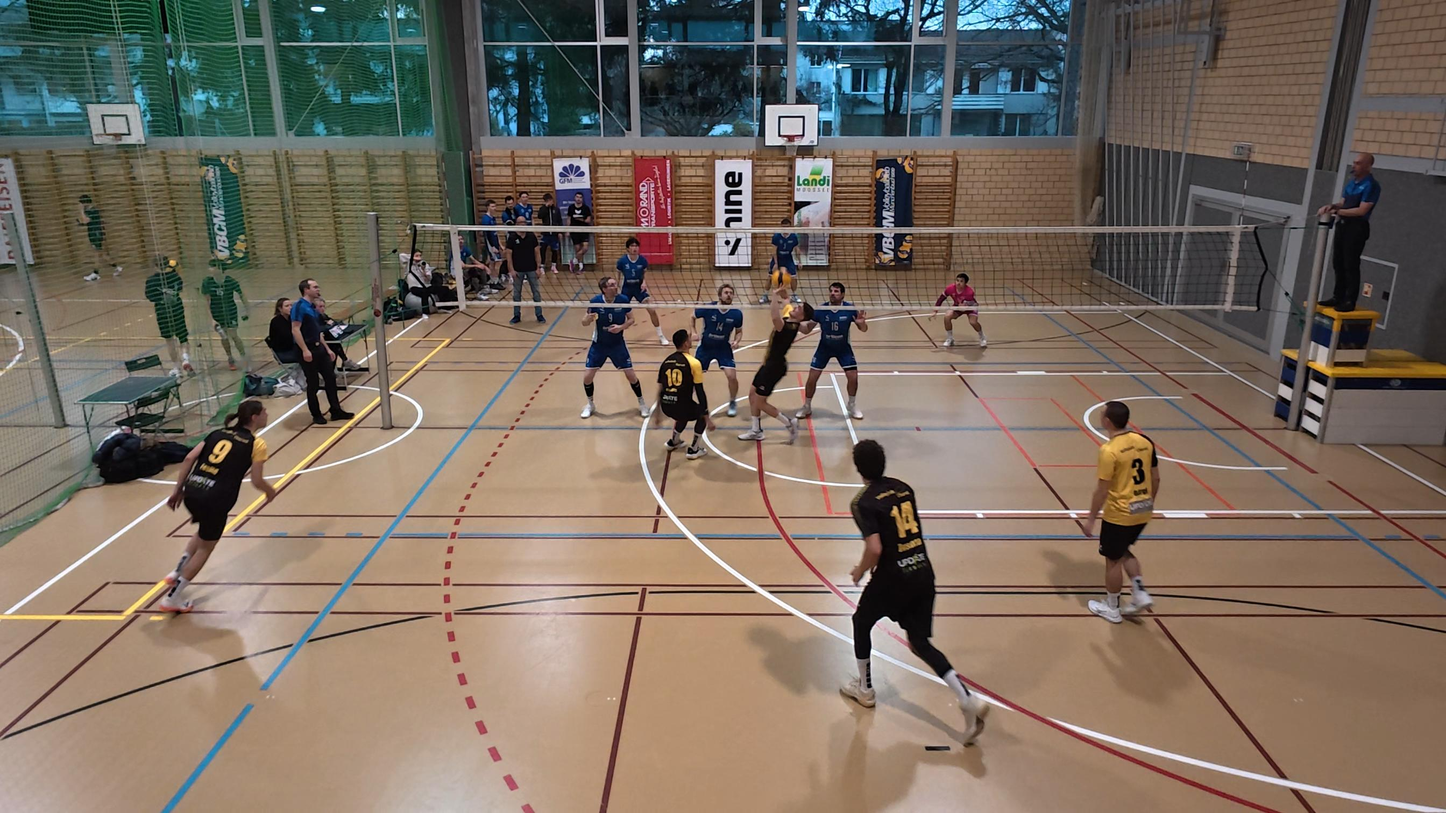Player: (841, 440, 988, 741), (160, 400, 277, 611), (1082, 400, 1159, 623), (793, 282, 869, 420), (581, 275, 650, 419), (654, 329, 711, 458), (692, 281, 743, 417), (615, 238, 669, 343), (934, 272, 988, 348), (769, 211, 806, 299)
Set: (735, 286, 817, 445)
ball: (768, 267, 792, 283)
